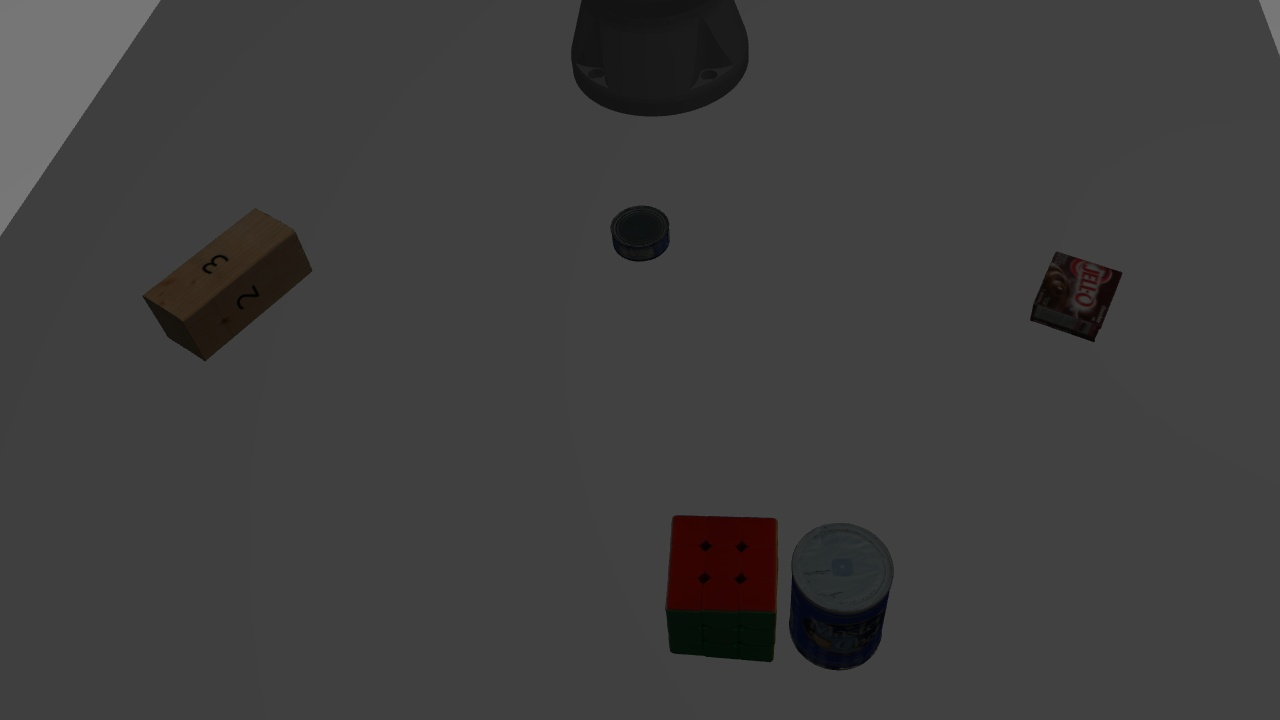master_chef_can: (787, 520, 888, 676)
pudding_box: (1026, 245, 1122, 348)
rubiks_cube: (657, 499, 784, 668)
wood_block: (140, 196, 316, 368)
